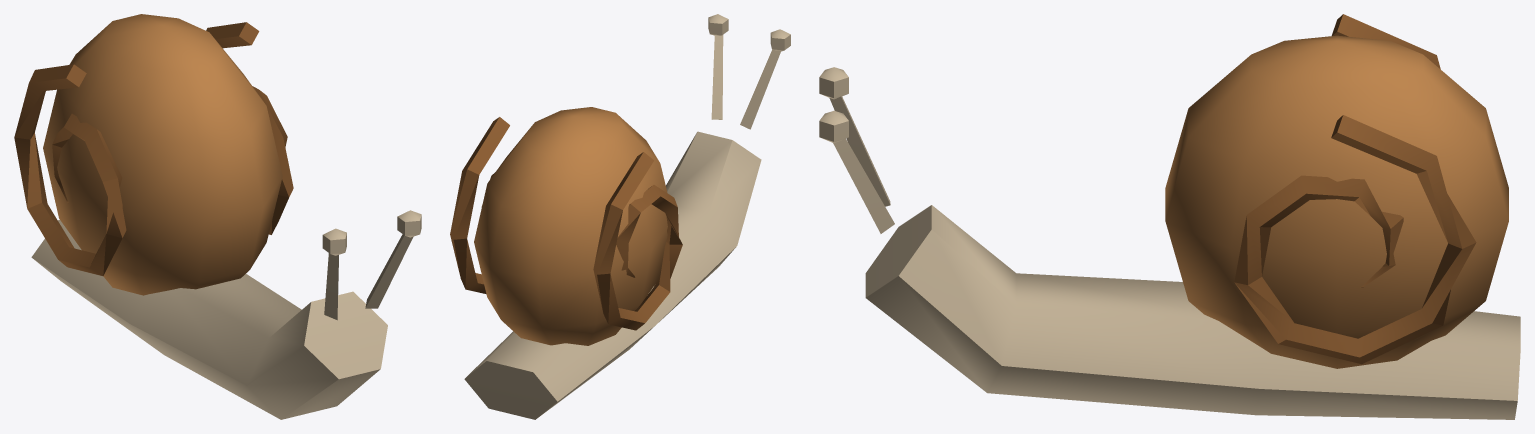
Rendered from bug_snail.glb.
The picture shows the model from 3 angles, left to right: view 1: azimuth 30°, elevation 25°; view 2: azimuth 150°, elevation 25°; view 3: azimuth 270°, elevation 25°; orthographic projection. The views are drawn at different scales.
Visible parts, largest first — view 1: bug_snail; view 2: bug_snail; view 3: bug_snail.
Boxes of the visible parts, x1,y1,x2,y2 form: bug_snail: (14, 14, 421, 419); bug_snail: (450, 14, 790, 419); bug_snail: (819, 14, 1520, 419).
Bounding box in the file's own units: 0.0414 × 0.062 × 0.1088.
